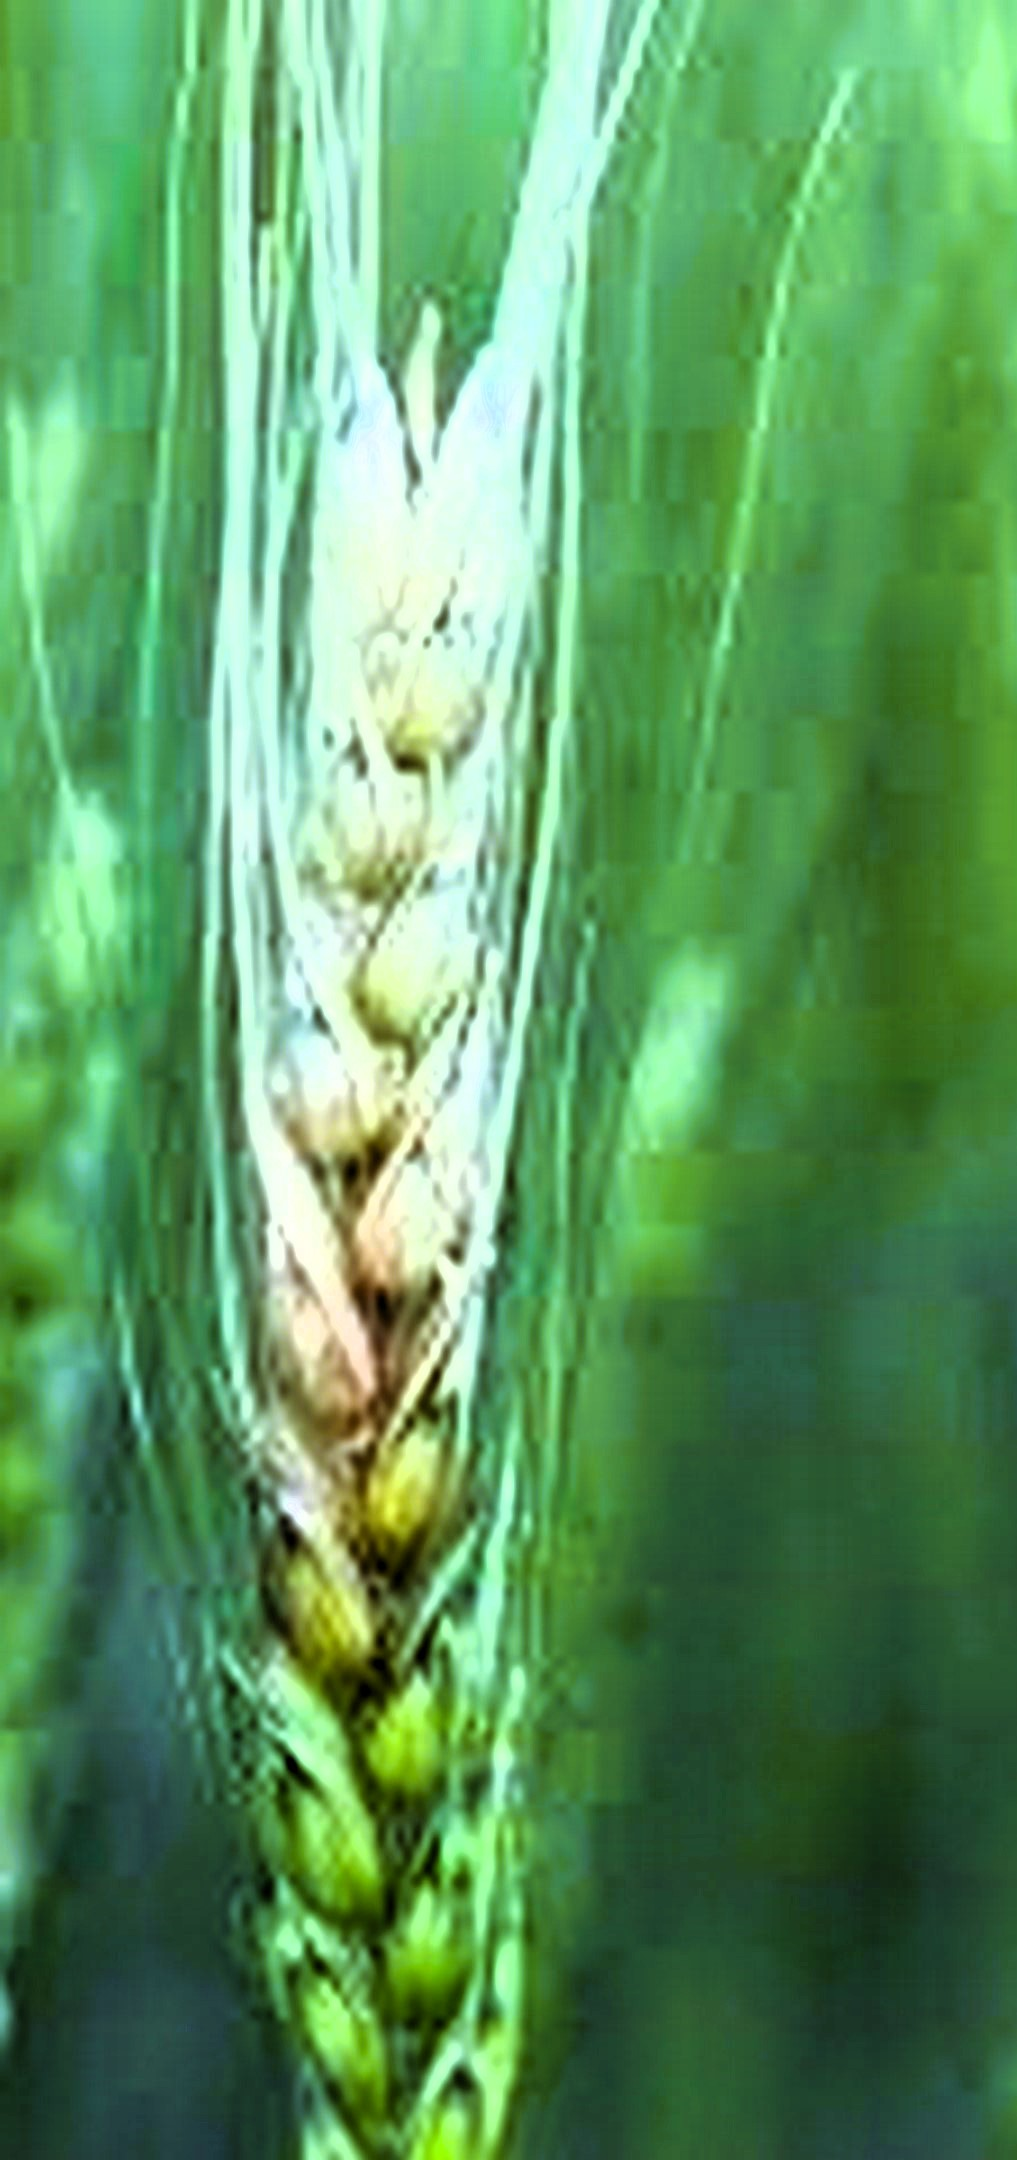Wheat scab: (165, 355, 637, 2160)
